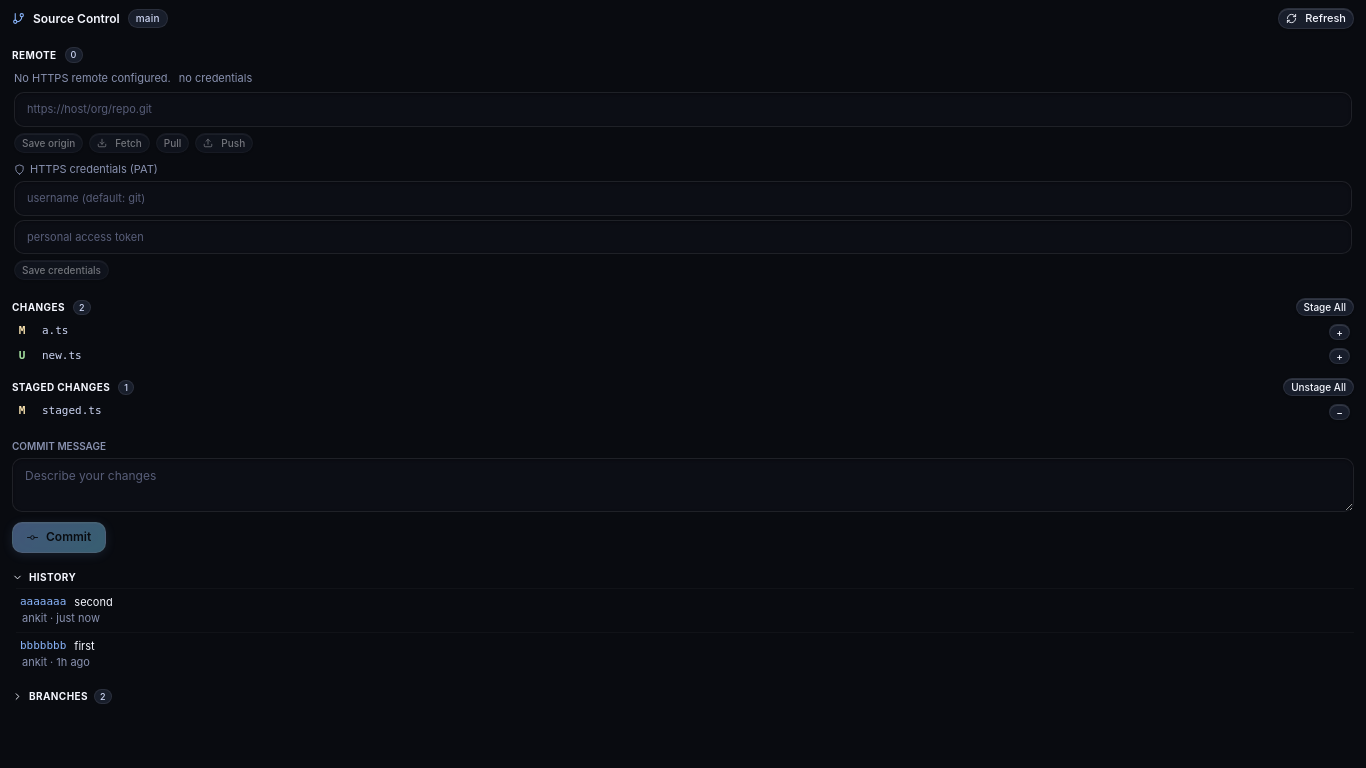
Test case: SourceControlPanel — M51 › 48. clicking a file loads and renders its diff
Click the button "a.ts". click: (55, 331)
box: [36,322,1321,341]
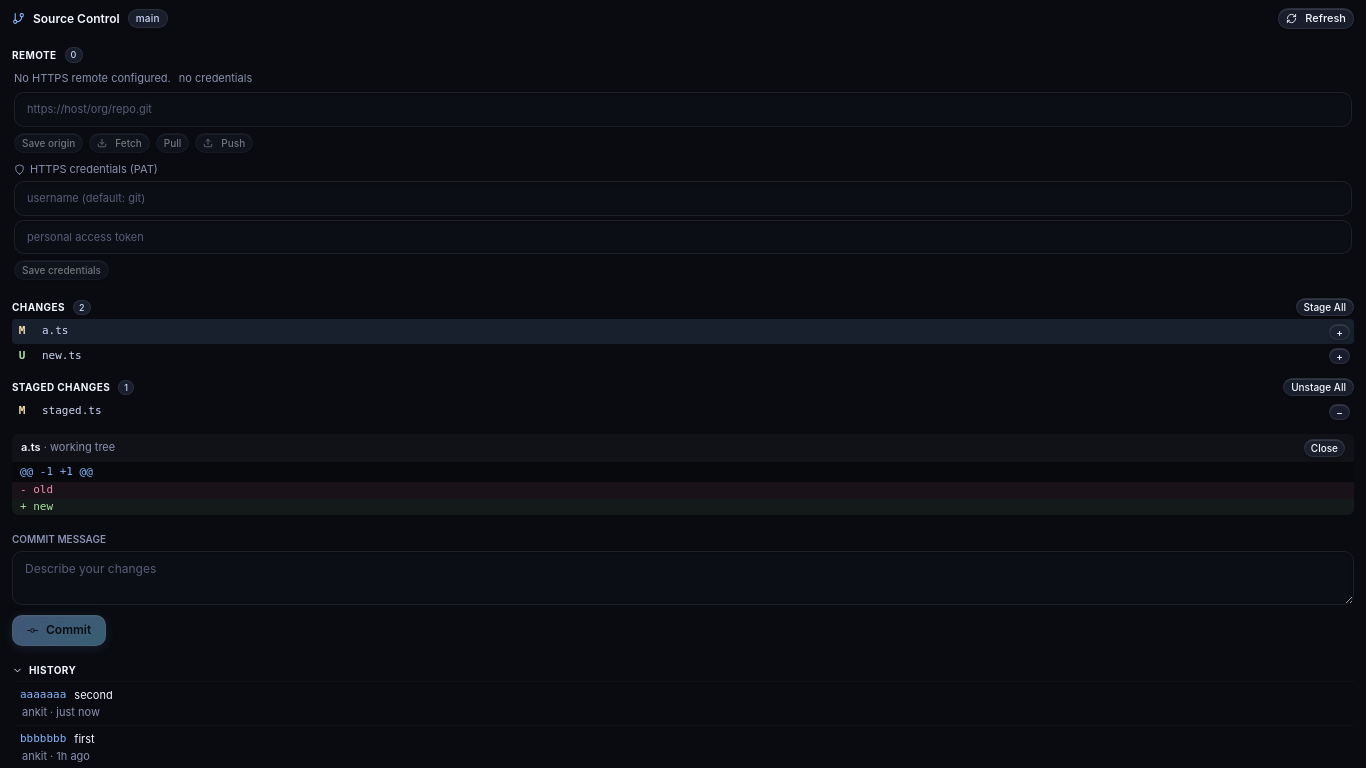
Now the element with test id "git-diff" shows "- old", box [12,462,1354,515]
Now the element with test id "git-diff" shows "+ new", box [12,462,1354,515]
